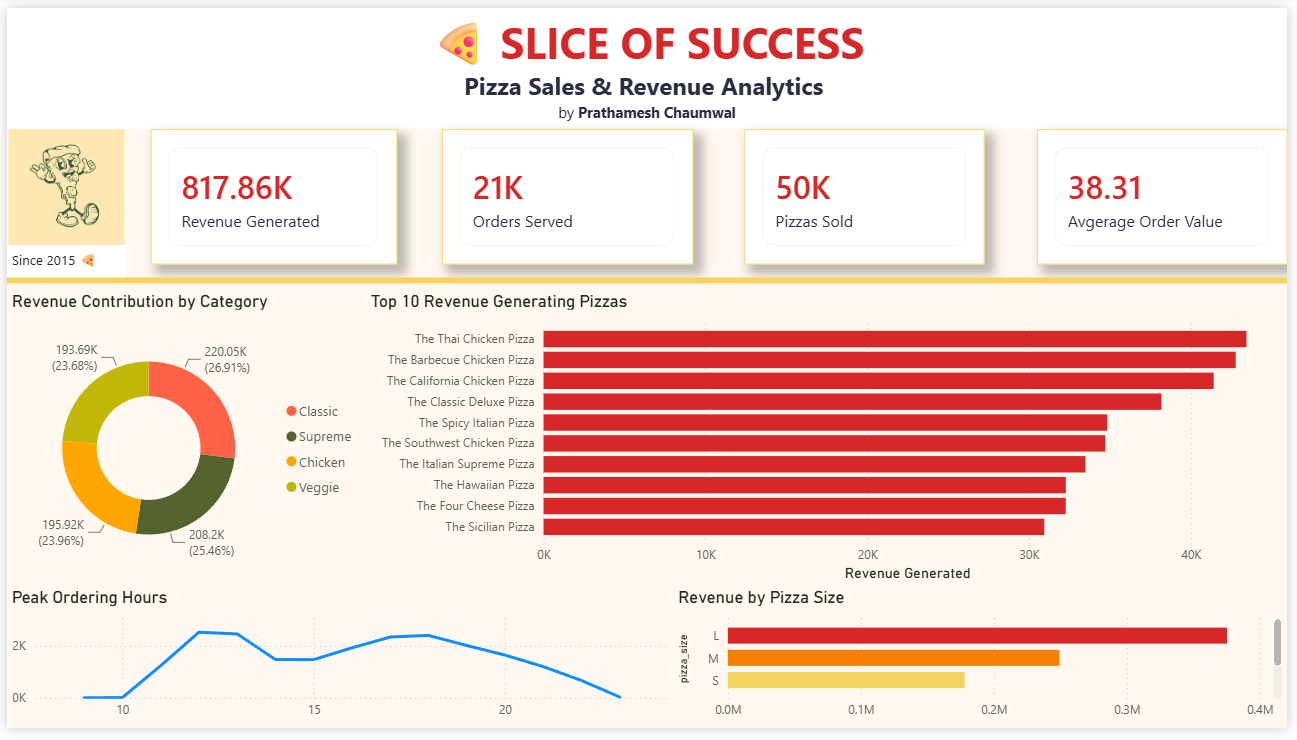

The dashboard page shown, as its layout file describes it:
{"tool":"powerbi","page":{"name":"🍕 Slice of Success","canvas":[1280,720],"ordinal":0},"visuals":[{"type":"textbox","box":[0,0,1280,120.6],"z":0},{"type":"image","box":[0,121.2,118.8,116.2],"z":2000},{"type":"cardVisual","title":"Revenue Generated 💰","fields":{"Data":["pizza_sales.Revenue Generated"]},"box":[143.8,121.2,246.2,135],"z":3000},{"type":"cardVisual","title":"Revenue Generated 💰","fields":{"Data":["pizza_sales.Orders Served"]},"box":[435,121.2,251.2,135],"z":4000},{"type":"cardVisual","title":"Revenue Generated 💰","fields":{"Data":["pizza_sales.Pizzas Sold"]},"box":[737.5,121.2,240,135],"z":5000},{"type":"cardVisual","title":"Revenue Generated 💰","fields":{"Data":["pizza_sales.Avg Order Value"]},"box":[1030,121.2,250,135],"z":6000},{"type":"donutChart","title":"Revenue Contribution by Category","fields":{"Category":["pizza_sales.pizza_category"],"Y":["pizza_sales.Revenue Generated"]},"box":[0,282.5,358.8,296.2],"z":7000},{"type":"clusteredBarChart","title":"Top 10 Revenue Generating Pizzas","fields":{"Category":["pizza_sales.pizza_name"],"Y":["pizza_sales.Revenue Generated"]},"box":[358.8,282.5,921.2,296.2],"z":8000},{"type":"lineChart","title":"Peak Ordering Hours","fields":{"Category":["pizza_sales.Hour"],"Y":["pizza_sales.Orders Served"]},"box":[0,578.8,666.2,141.2],"z":9000},{"type":"clusteredBarChart","title":"Revenue by Pizza Size","fields":{"Category":["pizza_sales.pizza_size"],"Y":["pizza_sales.Revenue Generated"]},"box":[666.2,578.8,613.8,141.2],"z":10000},{"type":"textbox","box":[0,237.5,118.8,35],"z":11000},{"type":"shape","box":[0,197.5,1280,150],"z":11500}]}

Visuals, with their boxes in screenshot pixels (x1, y1, x2, y2), scaled from the page's 1280x720 canvas onto the 1297x740 screenshot:
textbox: 0 0 1296 124
image: 0 125 120 244
"Revenue Generated 💰" cardVisual: 146 125 395 263
"Revenue Generated 💰" cardVisual: 441 125 695 263
"Revenue Generated 💰" cardVisual: 747 125 990 263
"Revenue Generated 💰" cardVisual: 1044 125 1296 263
"Revenue Contribution by Category" donutChart: 0 290 364 595
"Top 10 Revenue Generating Pizzas" clusteredBarChart: 364 290 1296 595
"Peak Ordering Hours" lineChart: 0 595 675 739
"Revenue by Pizza Size" clusteredBarChart: 675 595 1296 739
textbox: 0 244 120 280
shape: 0 203 1296 357
